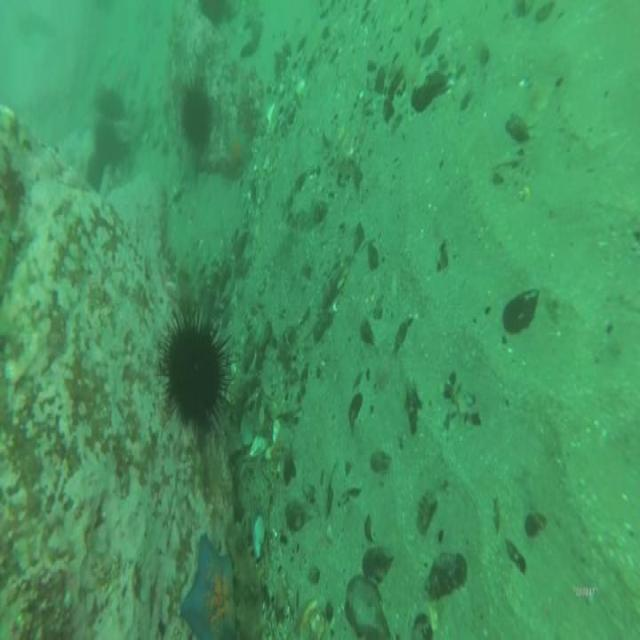echinus: (166, 329, 222, 420), (180, 84, 212, 145), (93, 123, 119, 169), (98, 85, 125, 118)
starfish: (180, 534, 236, 639), (225, 128, 252, 168)
